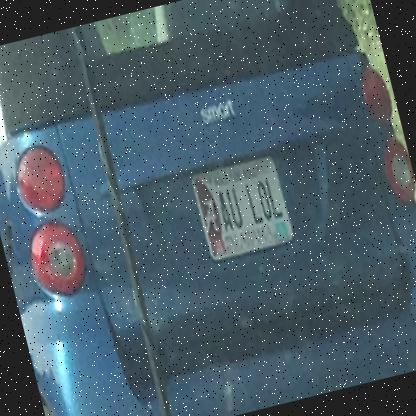License-Plate: (186, 147, 303, 271)
